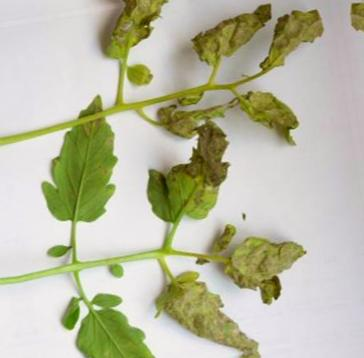Tomato mold leaf: (23, 91, 132, 232), (137, 116, 246, 227), (149, 258, 263, 358), (220, 217, 323, 292), (75, 294, 164, 358)
